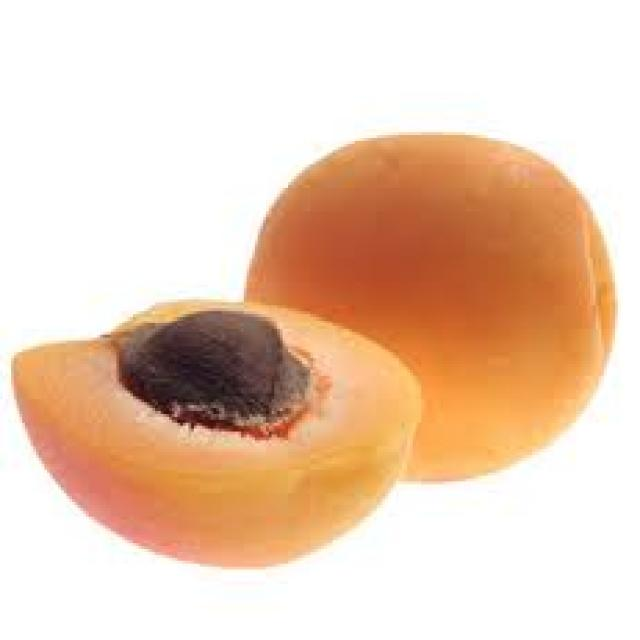apricot: (0, 117, 621, 578)
